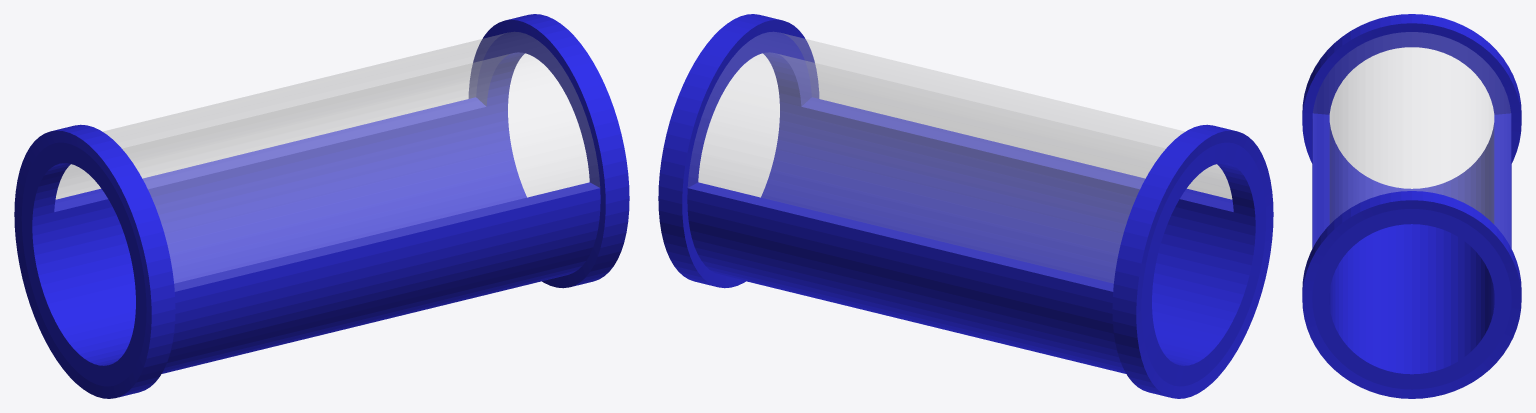
File: pipe 1.fbx
The picture shows the model from 3 angles, left to right: view 1: azimuth 30°, elevation 25°; view 2: azimuth 150°, elevation 25°; view 3: azimuth 270°, elevation 25°; orthographic projection. The views are drawn at different scales.
Parts seen in each view (by area): view 1: Cylinder; view 2: Cylinder; view 3: Cylinder.
Boxes of the visible parts, <box> form: Cylinder: <box>14,14,629,398</box>; Cylinder: <box>658,14,1273,398</box>; Cylinder: <box>1302,14,1521,398</box>.
Bounding box in the file's own units: 442 × 220 × 220.
